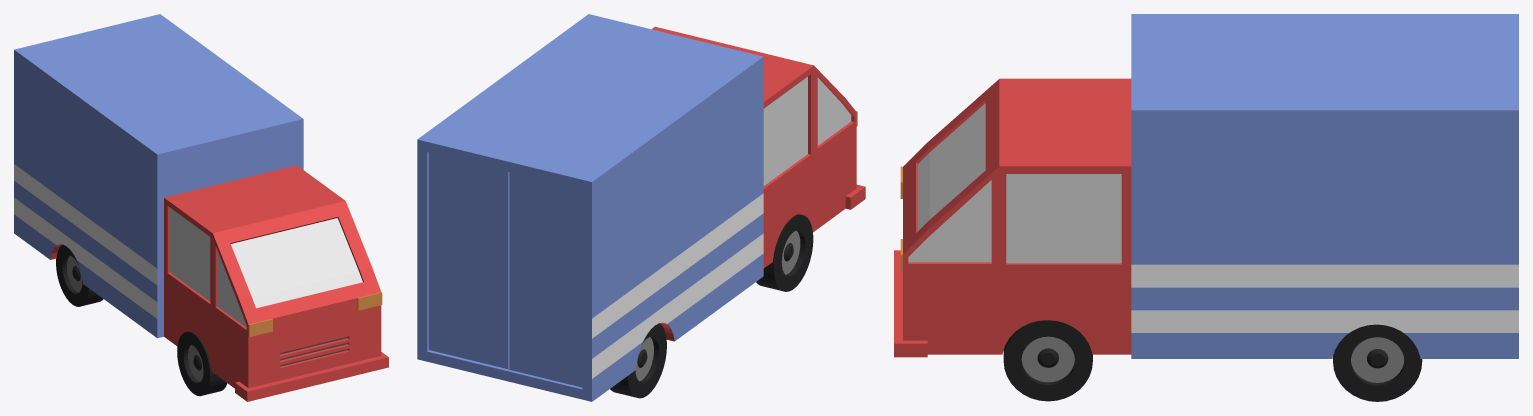
Rendered from delivery-truck-1-with-moving-animation.fbx.
3 renders of one model, left to right at view 1: azimuth 30°, elevation 25°; view 2: azimuth 150°, elevation 25°; view 3: azimuth 270°, elevation 25°, orthographic. The views are drawn at different scales.
Visible parts, largest first — view 1: Cube, Cylinder.002, Cylinder.003; view 2: Cube, Cylinder.002, Cylinder.003; view 3: Cube, Cylinder.004, Cylinder.001.
Part boxes in pixels (x1=…): Cube: x1=14, y1=14, x2=388, y2=401; Cylinder.002: x1=177, y1=331, x2=227, y2=396; Cylinder.003: x1=56, y1=244, x2=103, y2=306; Cube: x1=417, y1=14, x2=865, y2=401; Cylinder.002: x1=756, y1=214, x2=813, y2=291; Cylinder.003: x1=610, y1=323, x2=666, y2=398; Cube: x1=894, y1=14, x2=1518, y2=358; Cylinder.004: x1=1003, y1=320, x2=1092, y2=401; Cylinder.001: x1=1333, y1=324, x2=1422, y2=401.
Size of the model in its own units: 678 by 967 by 1857.
